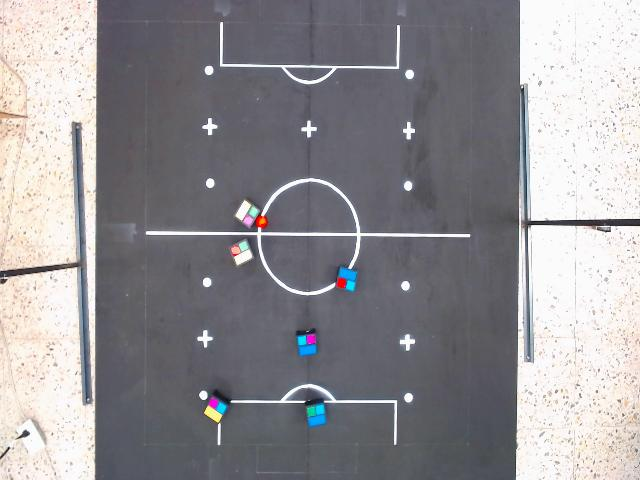robot: (233, 197, 262, 229), (202, 394, 231, 425), (228, 237, 256, 269), (334, 265, 359, 294), (304, 402, 329, 428), (296, 332, 319, 357)
